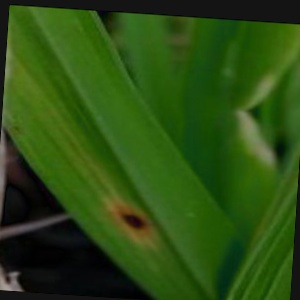Bacterial_Leaf_Blight: (109, 205, 155, 234)
